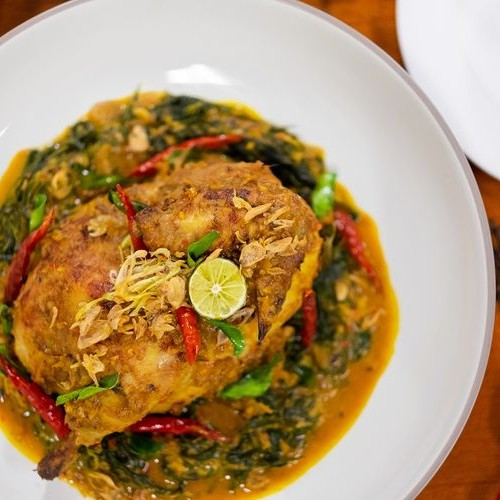ayam betutu: (20, 223, 169, 442)
